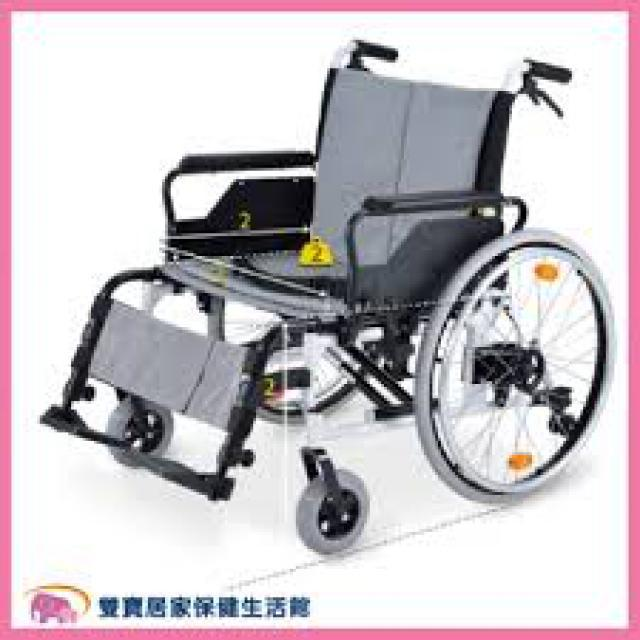wheelchair: (28, 31, 614, 572)
